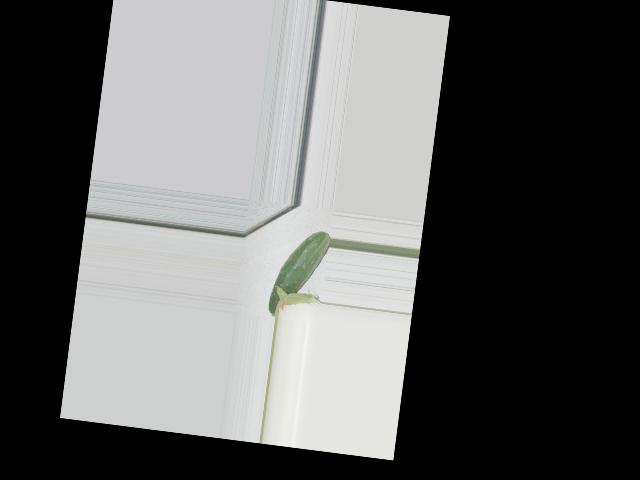cucumber: (267, 225, 331, 322)
